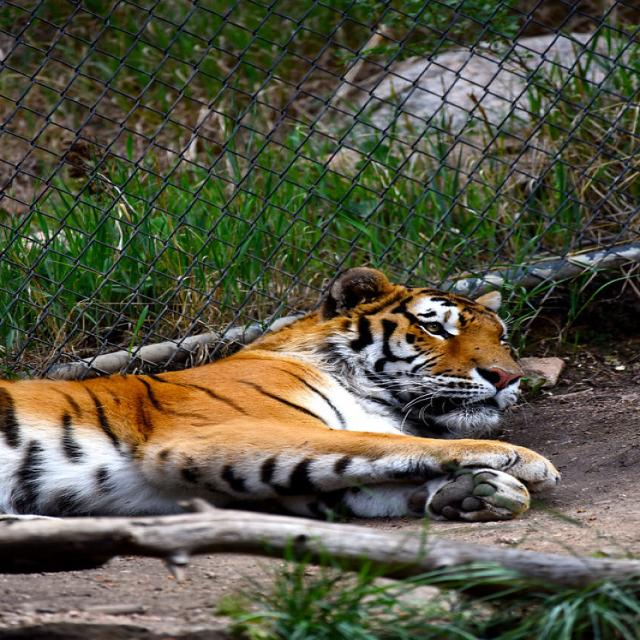Tiger: (1, 264, 562, 527)
